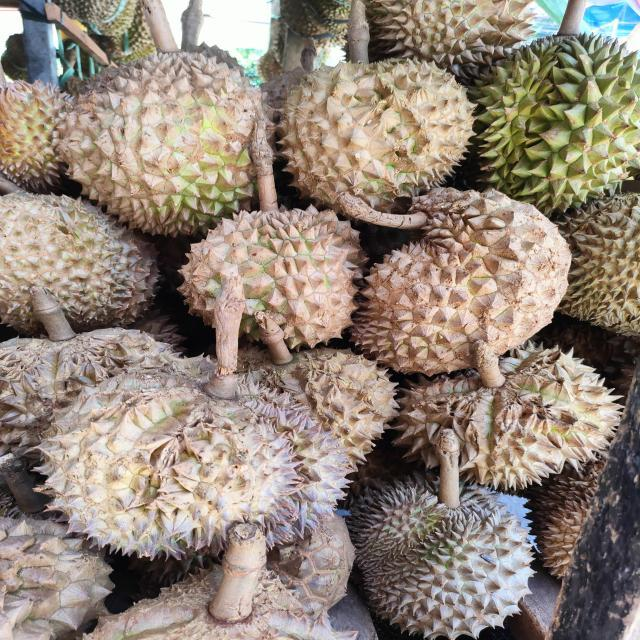mature: (39, 356, 353, 564), (347, 188, 573, 378), (53, 51, 271, 238), (389, 339, 626, 495), (268, 55, 476, 217), (349, 470, 541, 640), (178, 207, 370, 355)
